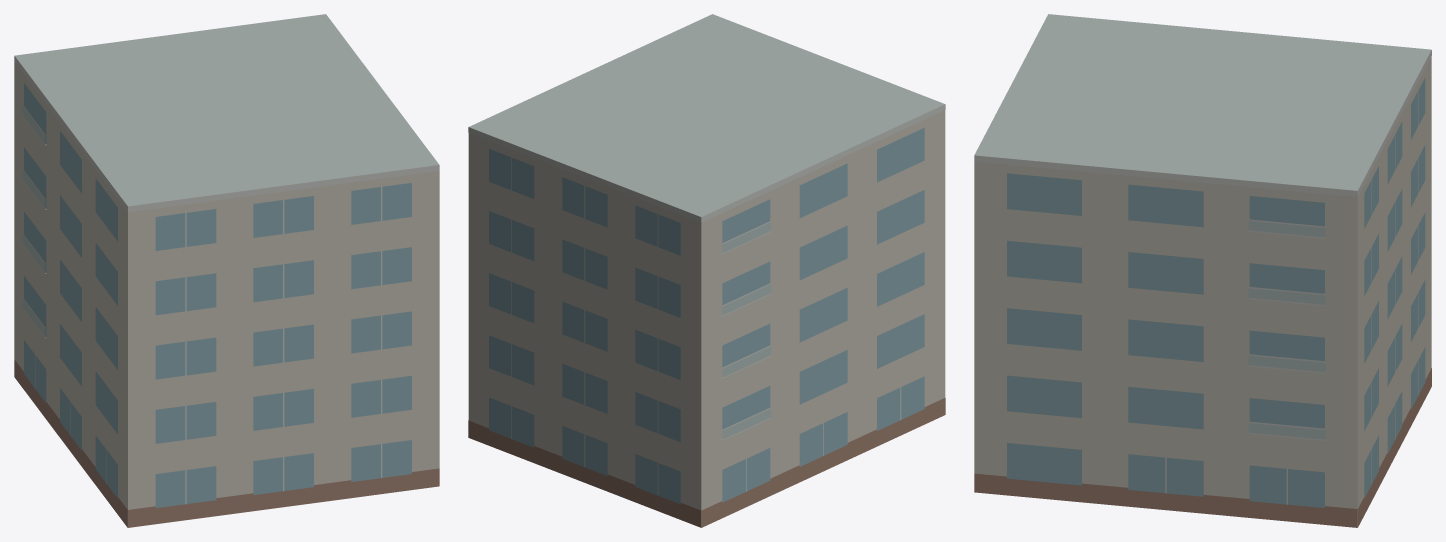
The model's file is survey-upis-32851088.glb.
The picture shows the model from 3 angles, left to right: view 1: azimuth 30°, elevation 25°; view 2: azimuth 150°, elevation 25°; view 3: azimuth 270°, elevation 25°; orthographic projection. The views are drawn at different scales.
Parts seen in each view (by area): view 1: survey-upis-32851088.tmp; view 2: survey-upis-32851088.tmp; view 3: survey-upis-32851088.tmp.
Boxes of the visible parts, x1,y1,x2,y2 form: survey-upis-32851088.tmp: [14, 14, 439, 527]; survey-upis-32851088.tmp: [468, 14, 945, 527]; survey-upis-32851088.tmp: [974, 14, 1431, 527].
Bounding box in the file's own units: 14.87 × 13.2 × 16.26.
